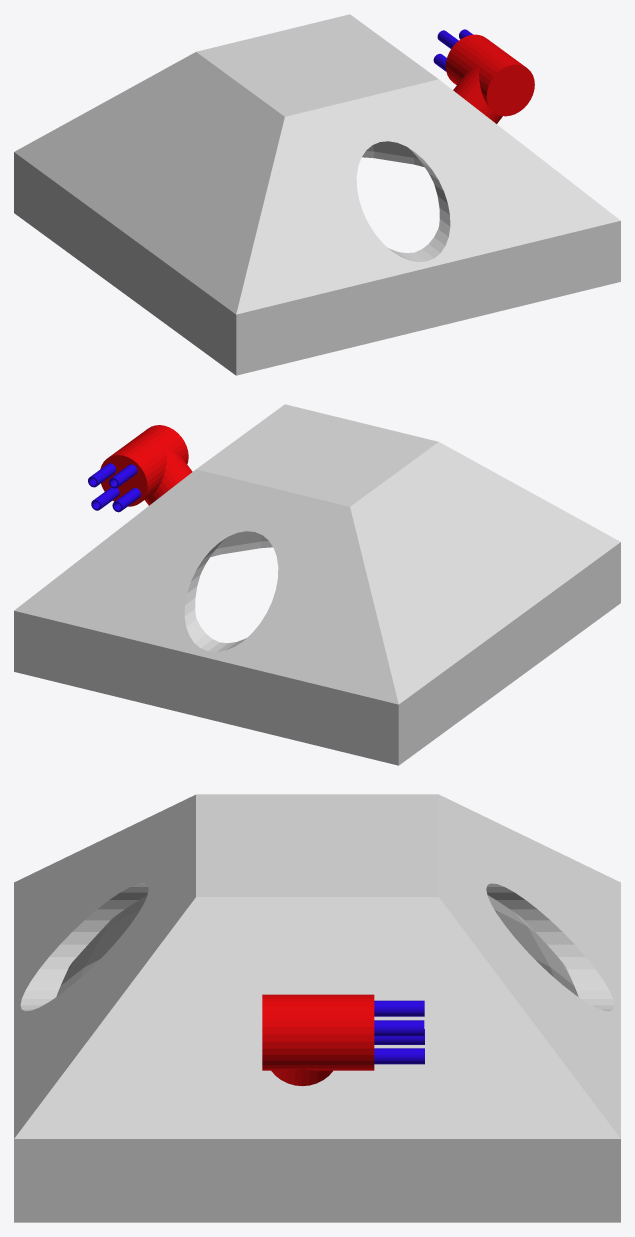
File: teste_ball_game.glb
The picture shows the model from 3 angles, top to bottom: view 1: azimuth 30°, elevation 25°; view 2: azimuth 150°, elevation 25°; view 3: azimuth 270°, elevation 25°; orthographic projection. The views are drawn at different scales.
Visible parts, largest first — view 1: Cube, miniGun, baseMiniGun; view 2: Cube, miniGun, rotorMiniGun, baseMiniGun; view 3: Cube, miniGun, rotorMiniGun, baseMiniGun.
Part boxes in pixels (<box>): Cube: <box>14,14,620,375</box>; miniGun: <box>445,34,534,116</box>; baseMiniGun: <box>453,64,502,123</box>; Cube: <box>14,404,620,765</box>; miniGun: <box>100,425,188,506</box>; rotorMiniGun: <box>88,463,140,512</box>; baseMiniGun: <box>145,446,192,505</box>; Cube: <box>14,794,620,1222</box>; miniGun: <box>262,994,374,1070</box>; rotorMiniGun: <box>374,1000,424,1064</box>; baseMiniGun: <box>271,1068,332,1086</box>.
Size of the model in its own units: 2.02 by 0.9034 by 2.
